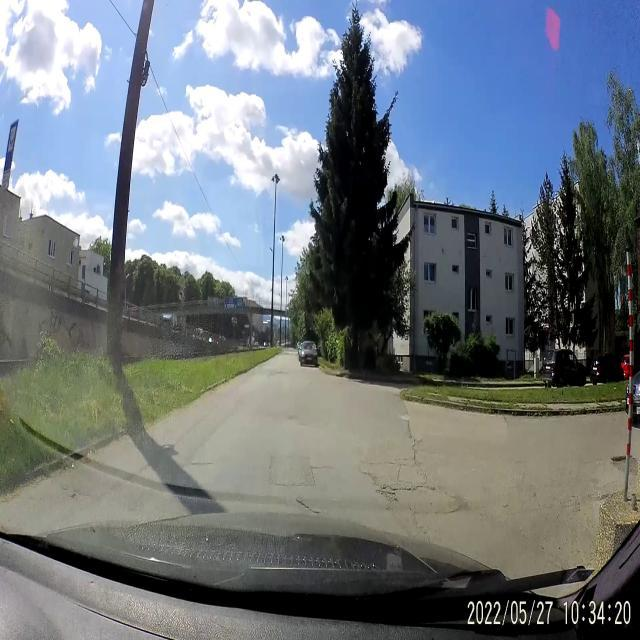Pothole: (374, 476, 435, 502), (406, 417, 419, 473), (612, 454, 638, 477), (294, 494, 316, 514), (267, 369, 289, 379)
